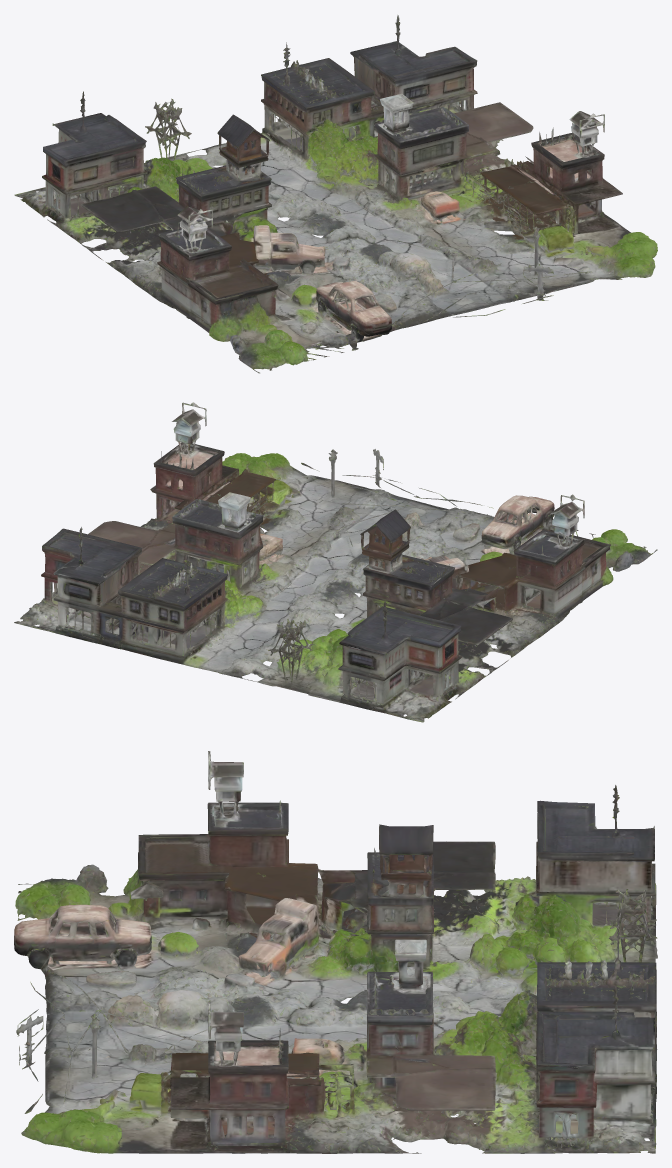
Rendered from map_piece_three.glb.
The picture shows the model from 3 angles, top to bottom: view 1: azimuth 30°, elevation 25°; view 2: azimuth 150°, elevation 25°; view 3: azimuth 270°, elevation 25°; orthographic projection. The views are drawn at different scales.
Visible parts, largest first — view 1: Mesh1.0; view 2: Mesh1.0; view 3: Mesh1.0.
Boxes of the visible parts, box(x1,y1,x2,y2) form: Mesh1.0: box(14, 15, 657, 373); Mesh1.0: box(14, 402, 657, 722); Mesh1.0: box(14, 751, 657, 1153).
Bounding box in the file's own units: 1.9 × 0.4785 × 1.91.
Materials: 1 (1 with a texture image).
